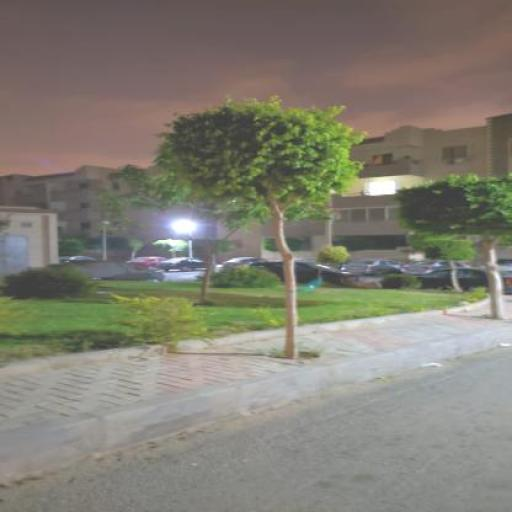street light: (174, 220, 194, 260), (98, 220, 111, 262)
